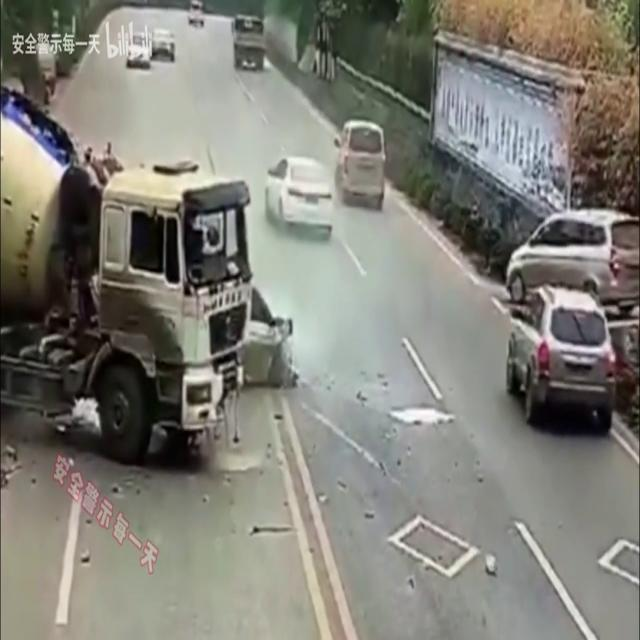accident: (0, 83, 302, 473)
non-accident: (503, 204, 639, 438), (263, 117, 387, 241), (123, 26, 179, 72)
